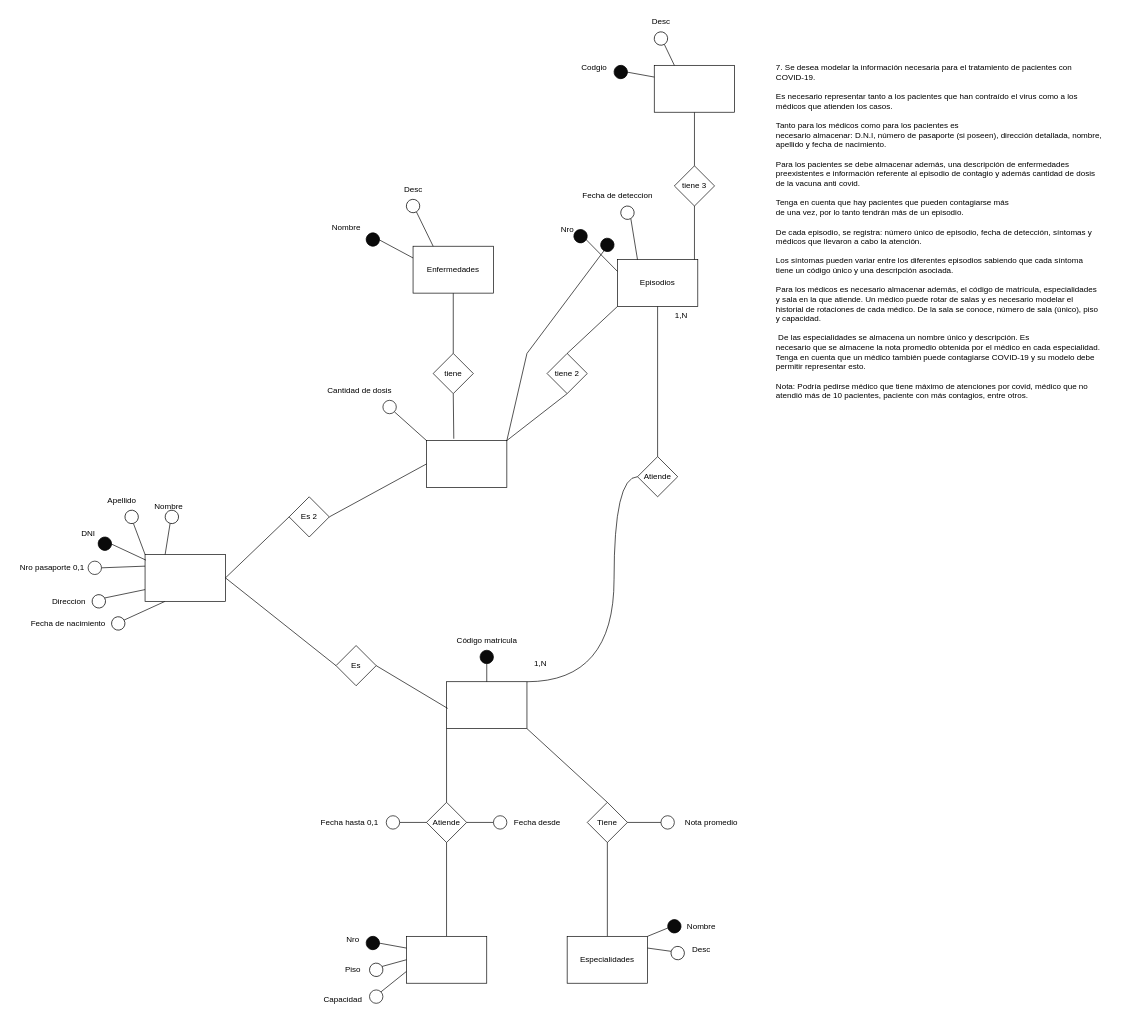
The diagram is 1134 pixels wide and 1021 high, and some of its shapes have lost their labels. The centre of each missing label's shape, as x and y in pixels:
Medicos: the point at 486,705
Pacientes: the point at 466,463
Personas: the point at 184,577
Productos: the point at 694,88
Sala: the point at 446,959
